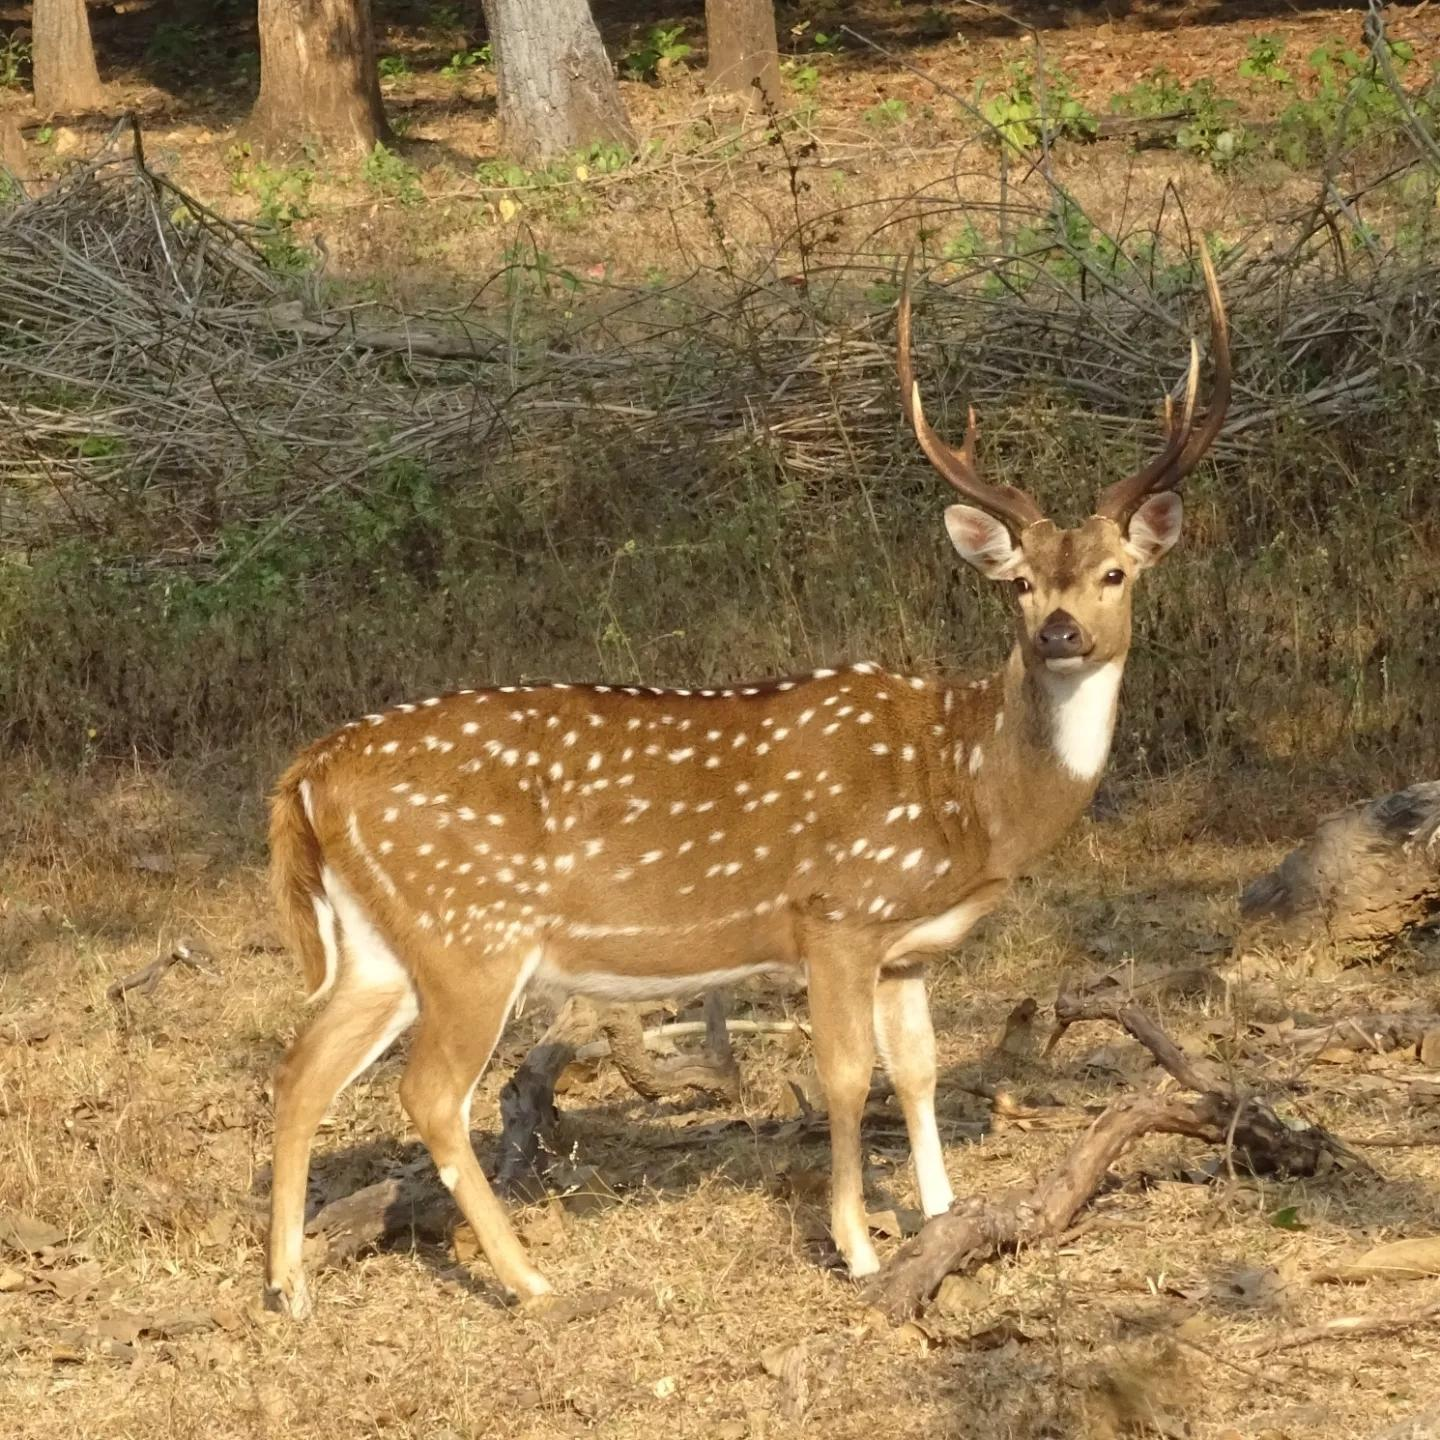Deer: (268, 249, 1232, 1313)
